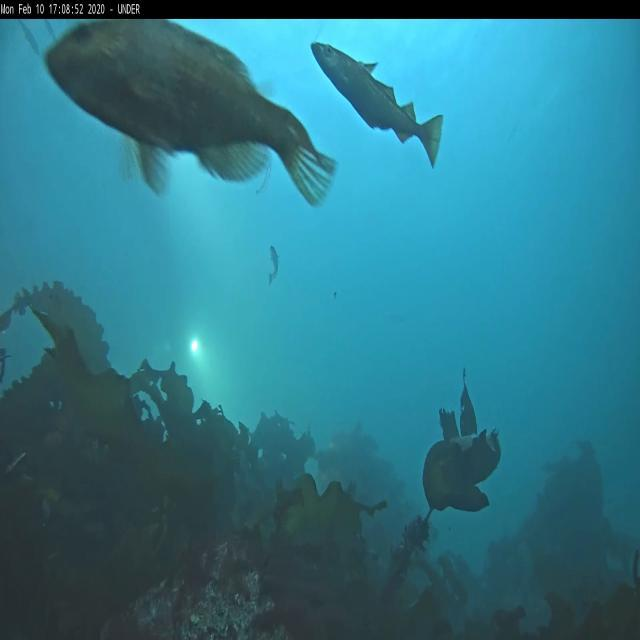fish: (44, 20, 336, 216), (311, 39, 444, 172), (17, 20, 39, 57), (269, 246, 280, 284), (44, 20, 60, 46)
